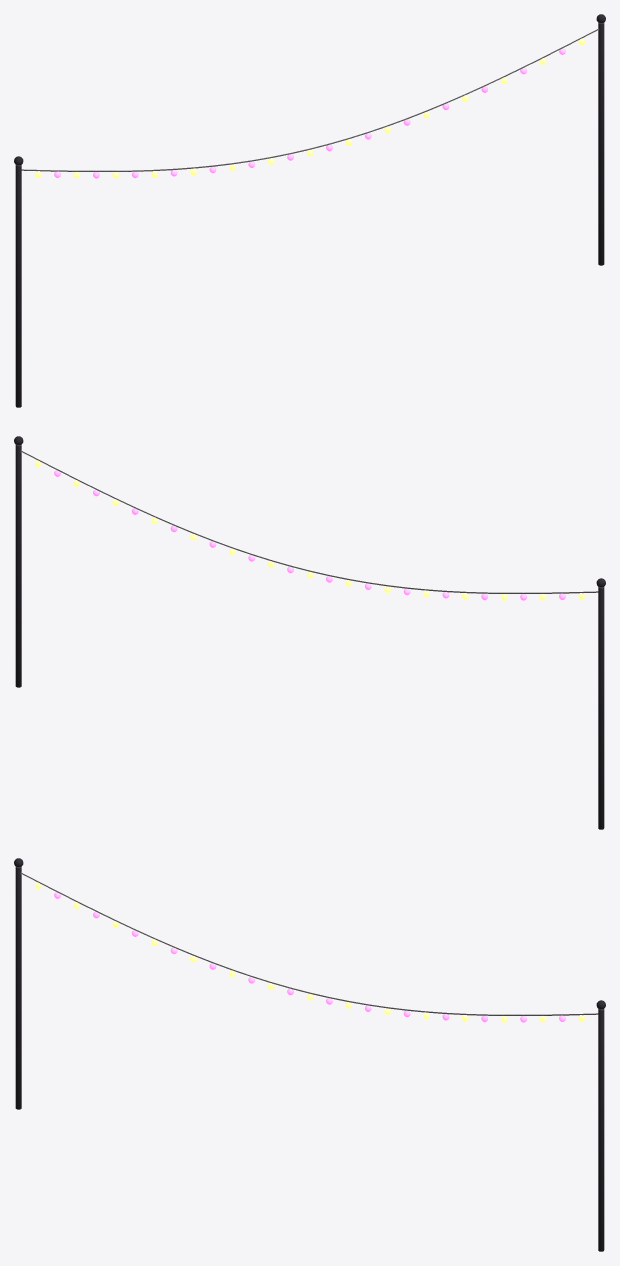
File: sf_string_lights.glb
3 renders of one model, top to bottom at view 1: azimuth 30°, elevation 25°; view 2: azimuth 150°, elevation 25°; view 3: azimuth 330°, elevation 25°, orthographic.
Visible parts, largest first — view 1: sf_string_lights; view 2: sf_string_lights; view 3: sf_string_lights.
Boxes of the visible parts, x1,y1,x2,y2 form: sf_string_lights: (14,14,605,407); sf_string_lights: (14,436,605,829); sf_string_lights: (14,858,605,1251).
Bounding box in the file's own units: 17.24 × 6.97 × 0.24.
3 materials, 3 textured.
